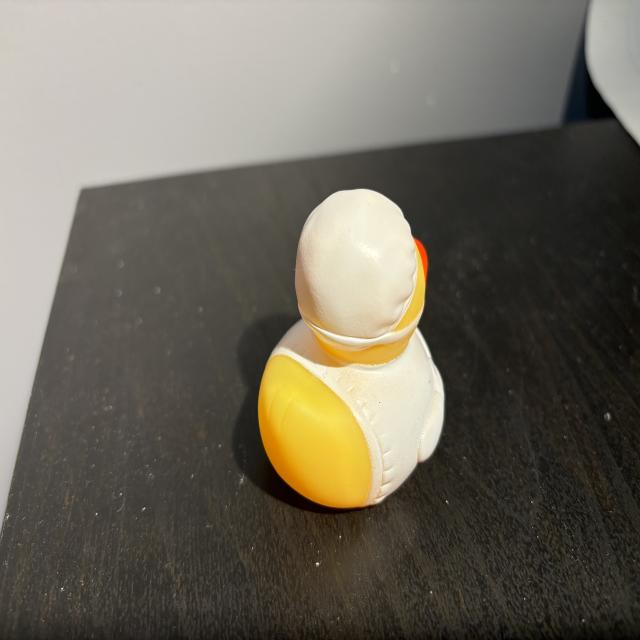duck_specialty: (260, 188, 446, 508)
